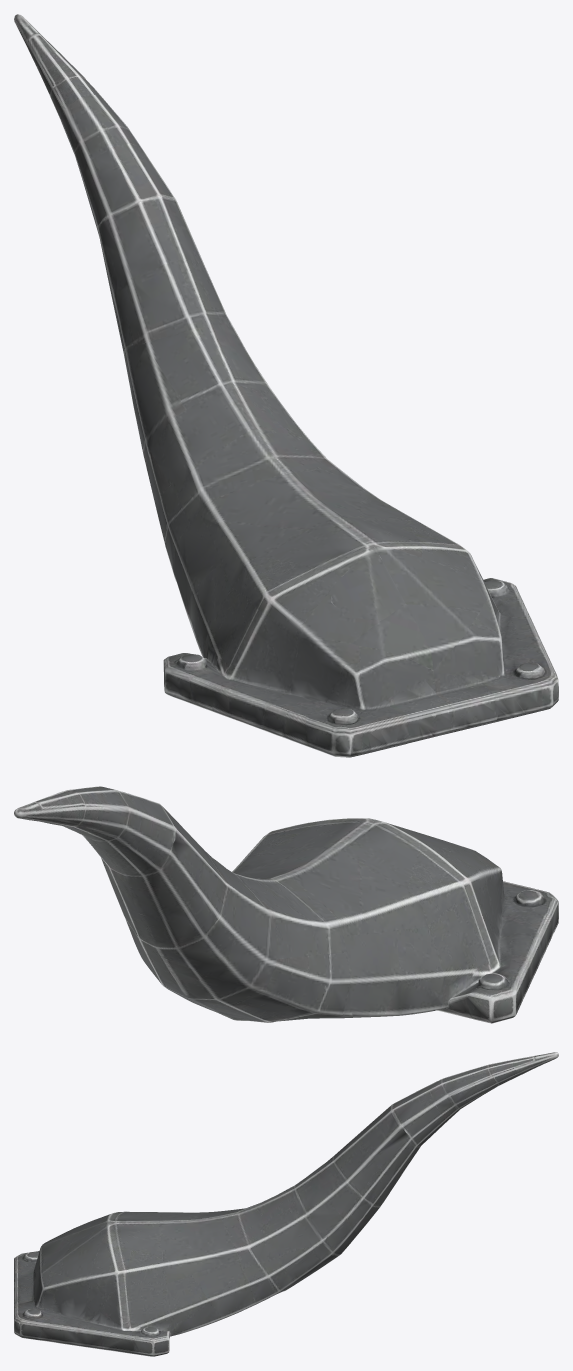
Rendered from horn_curved.glb.
3 renders of one model, top to bottom at view 1: azimuth 30°, elevation 25°; view 2: azimuth 150°, elevation 25°; view 3: azimuth 270°, elevation 25°, orthographic. The views are drawn at different scales.
Visible parts, largest first — view 1: mesh_node; view 2: mesh_node; view 3: mesh_node.
Part boxes in pixels (<box>): mesh_node: <box>14,14,558,757</box>; mesh_node: <box>14,786,558,1023</box>; mesh_node: <box>14,1052,558,1356</box>.
Bounding box in the file's own units: 0.8865 × 0.9718 × 1.9.
1 material, 1 textured.
